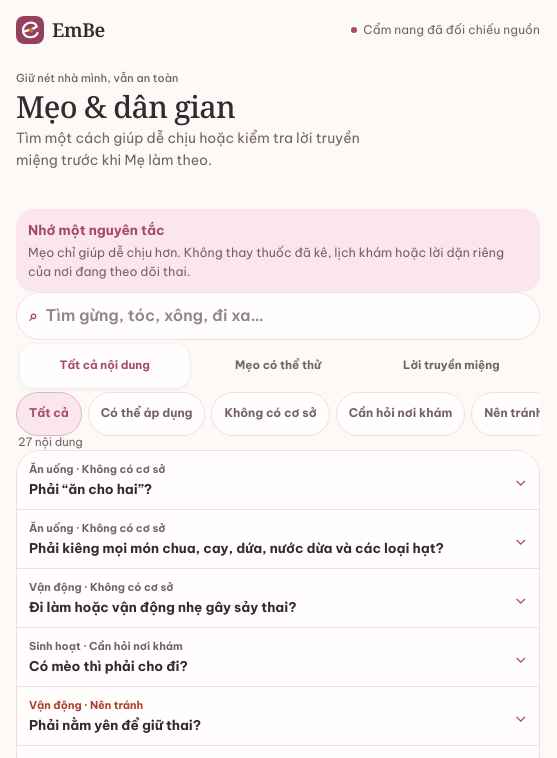
Scenario: pregnancy folk guide › separates practical comfort tips from folk beliefs
The width and height of the screenshot is (557, 758).
Click the button "Mẹo có thể thử" at coordinates (278, 366), box [193,344,363,388]
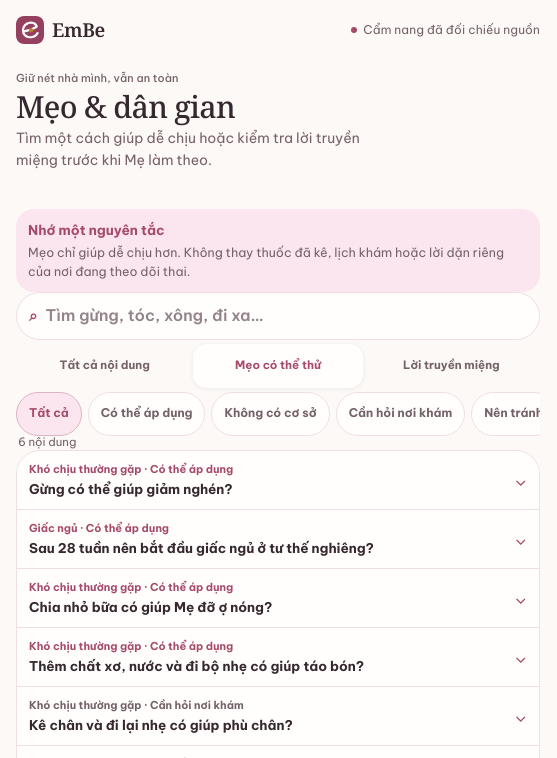
Check: the text "Dầu thầu dầu, nước lá, tắm nóng hoặc quan hệ sẽ giúp giục sinh?" is not shown
Click the button "Lời truyền miệng" at coordinates (451, 366), box [367,344,536,388]
(page scrolled)
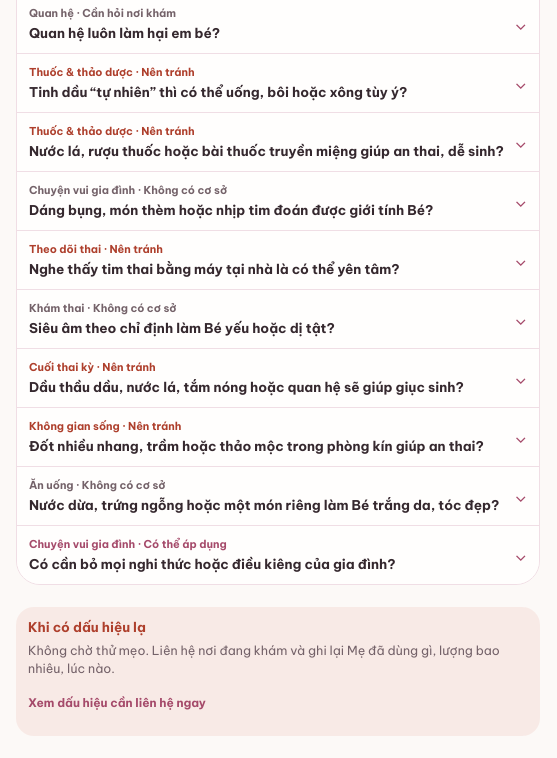
Check: the text "Dầu thầu dầu, nước lá, tắm nóng hoặc quan hệ sẽ giúp giục sinh?" is shown, box [29,379,464,397]
